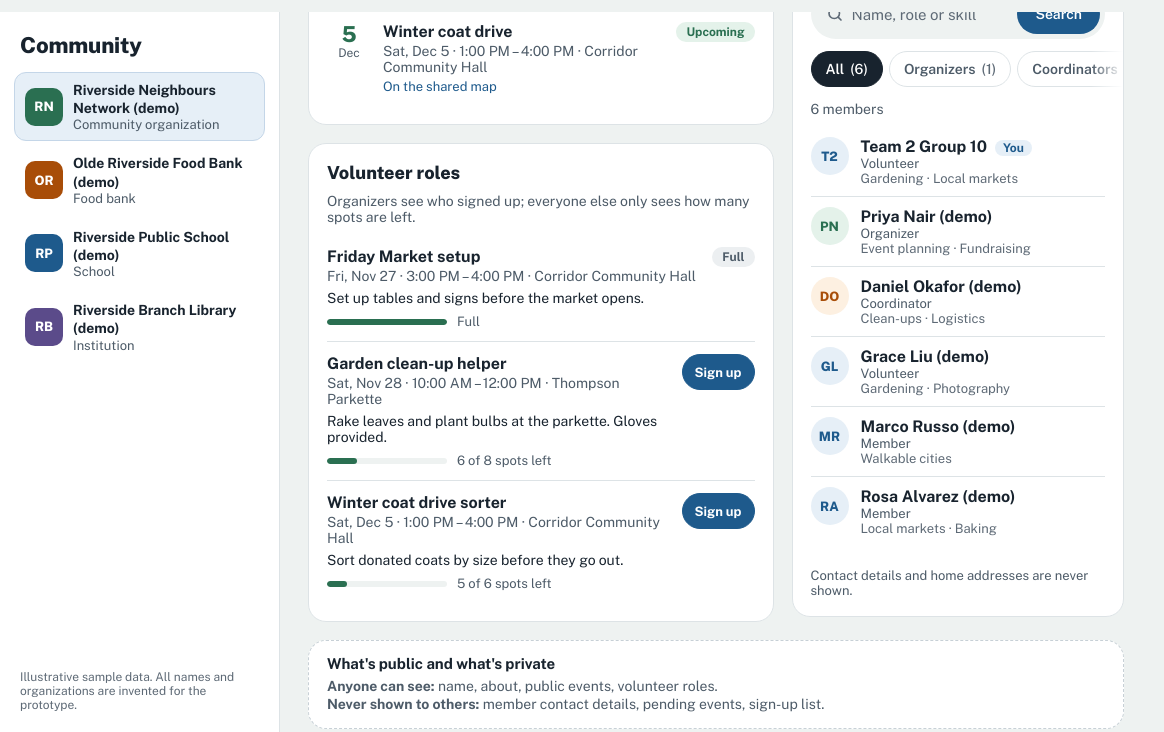
CommunityPage › signs up for a volunteer role and cancels
(page scrolled)
Check: the text "6 of 8 spots left" is shown, box [457, 453, 552, 468]
Click the button with aria-label "Sign up for Garden clean-up helper". click: [718, 372]
box: [682, 354, 754, 390]
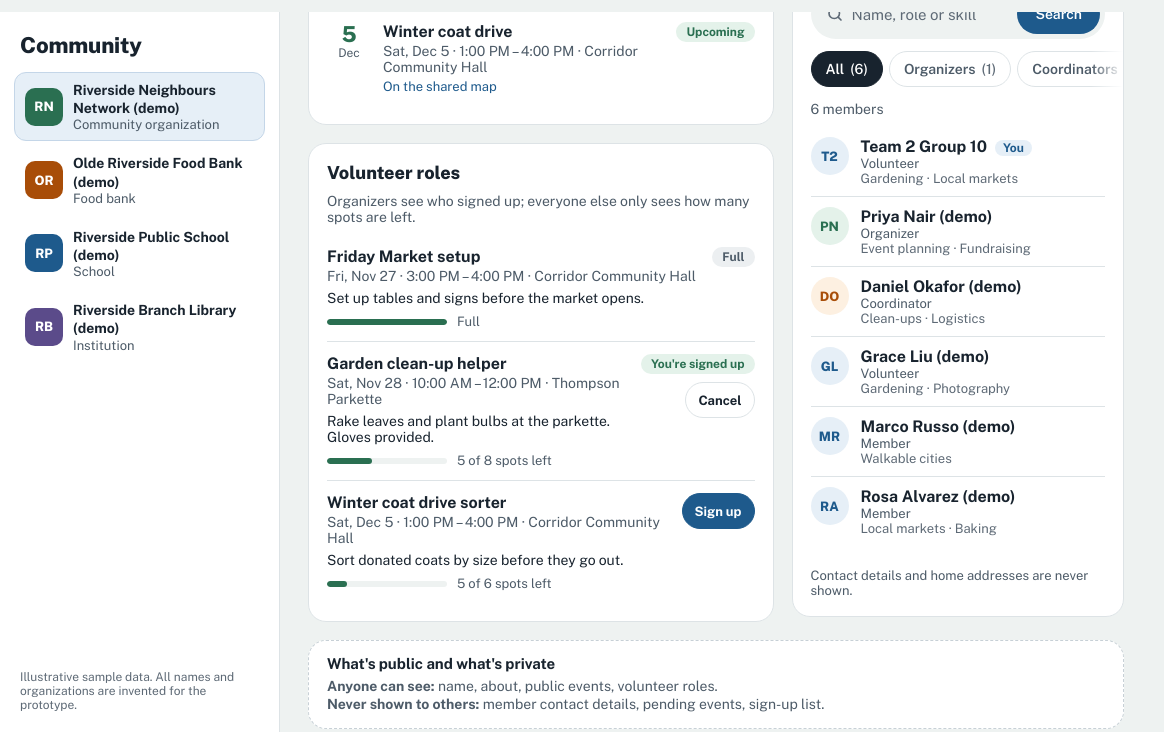
Check: the text "You're signed up" is shown, box [641, 354, 754, 374]
Check: the text "5 of 8 spots left" is shown, box [457, 453, 552, 468]
Click the button with aria-label "Cancel sign-up". click: [720, 400]
box: [685, 382, 754, 418]
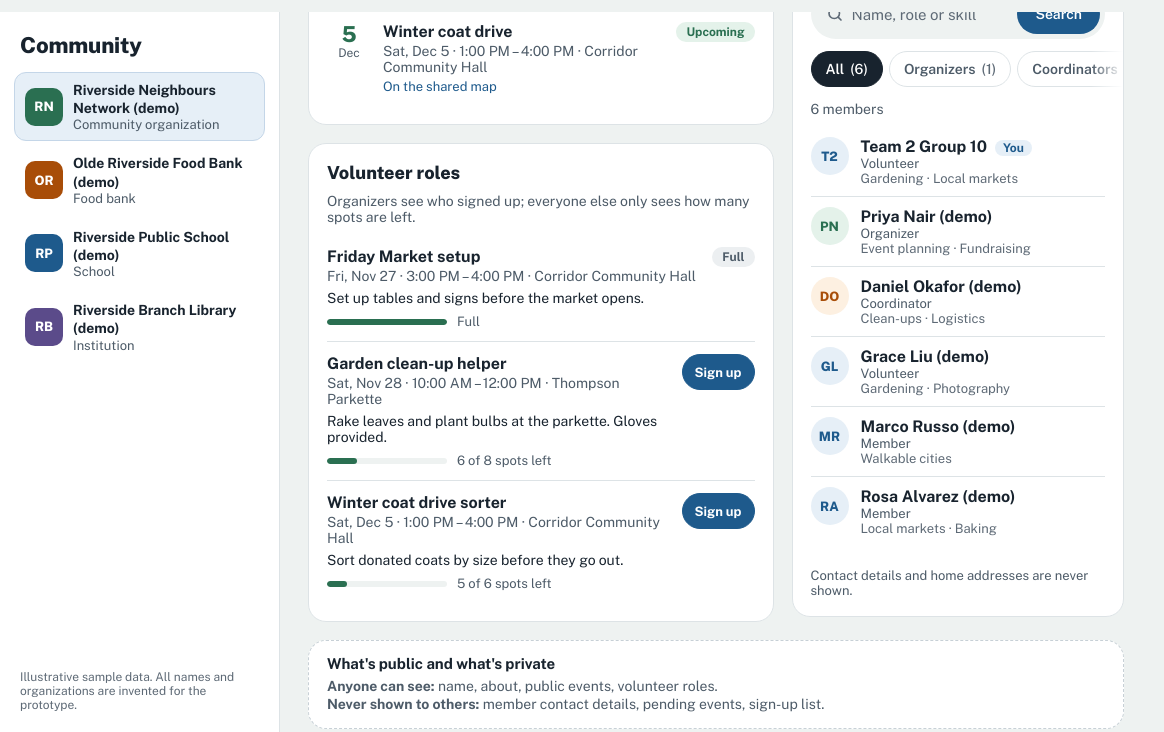
Check: the text "6 of 8 spots left" is shown, box [457, 453, 552, 468]
